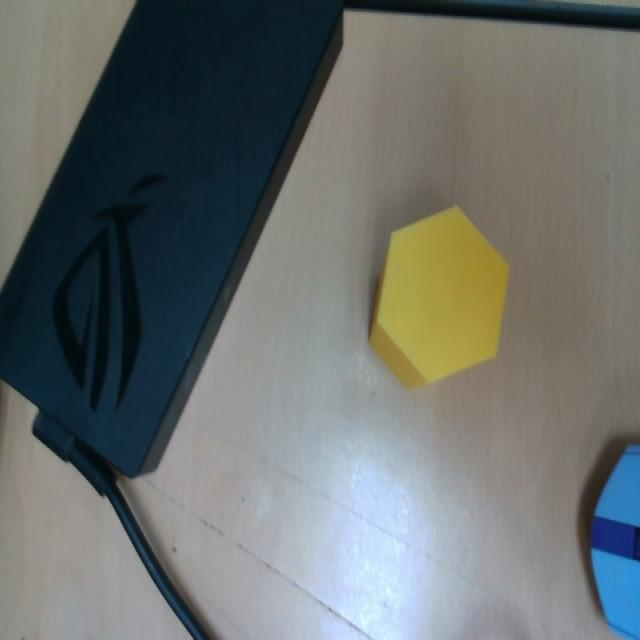hexagon: (370, 207, 508, 389)
